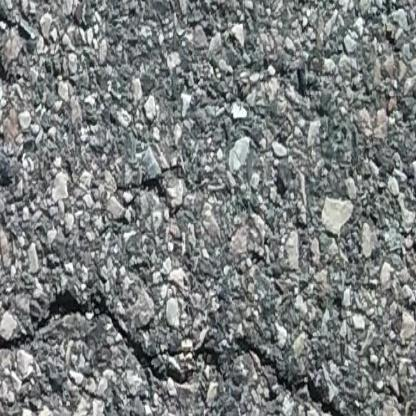Cracks: (0, 288, 416, 416)
